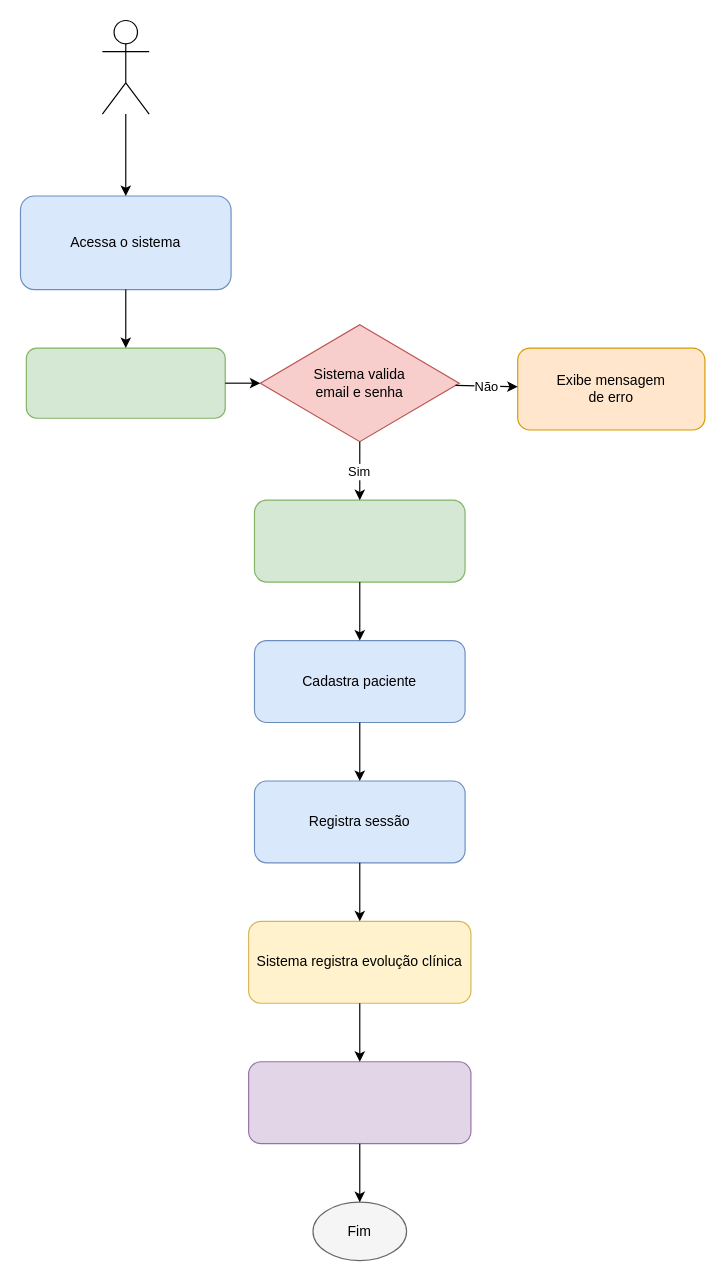
Some shapes in this 725 by 1281 pixel diagram are drawn without their labels. Each missing label, with the box of its shape:
Acessa área logada: (253, 499, 465, 582)
Consulta histórico do paciente: (247, 1061, 471, 1144)
Realiza Login: (25, 347, 225, 418)
Terapeuta: (101, 19, 149, 114)
